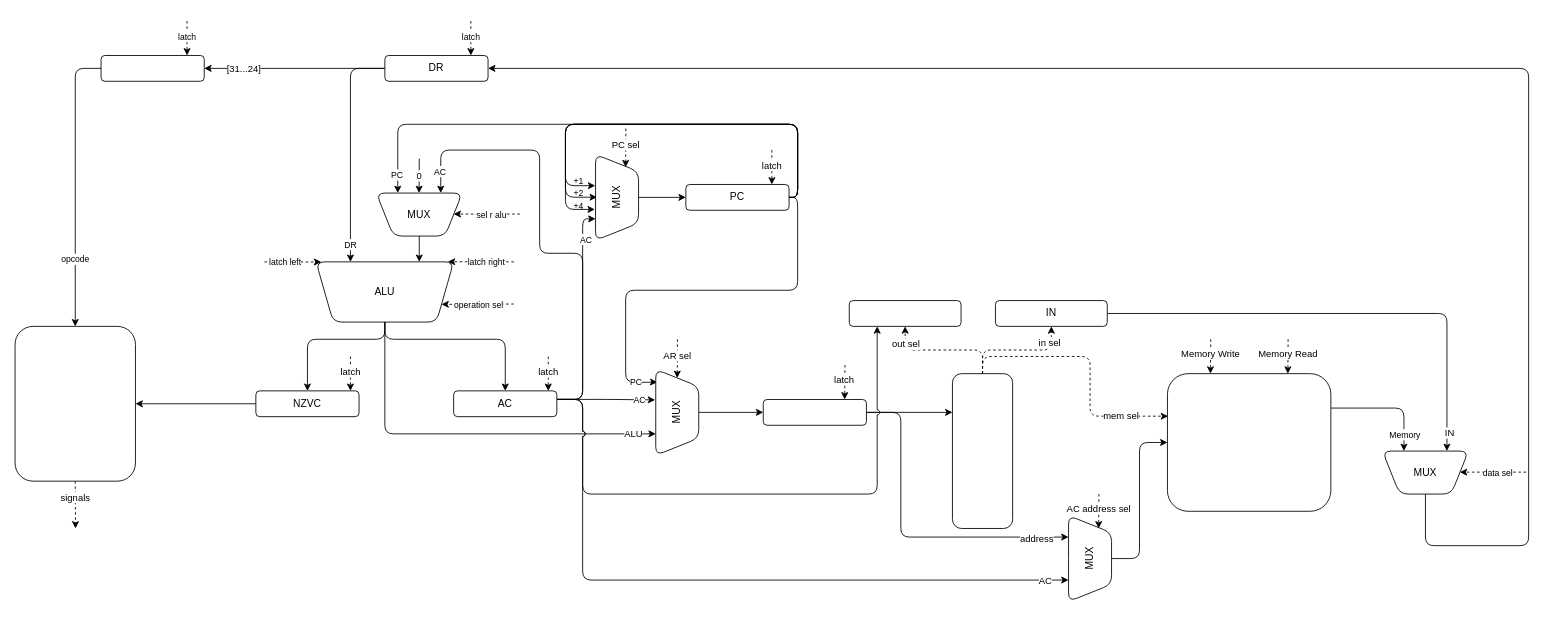
This 1551x617 diagram has some shape labels left out. Each missing label, with the box of its shape:
Address decoder: (952, 373, 1013, 528)
AR: (762, 399, 866, 425)
Control Unit: (14, 326, 135, 481)
IR: (100, 55, 204, 81)
Memory (Data + Instructions): (1167, 373, 1331, 511)
OUT: (848, 300, 961, 326)
